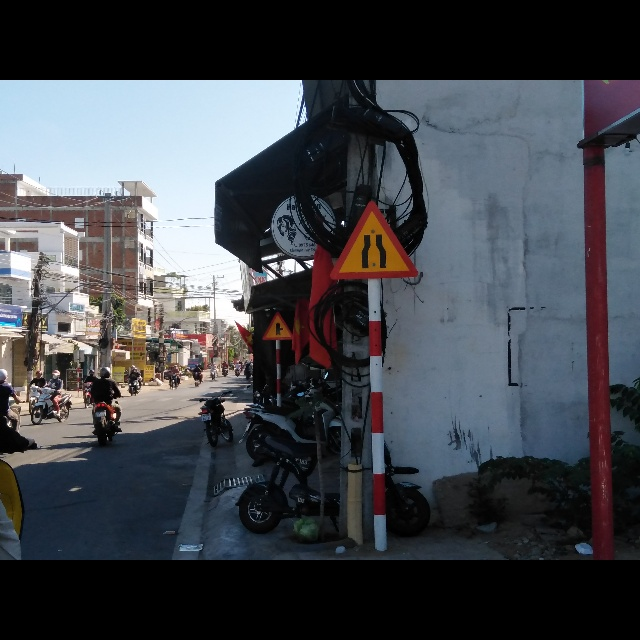Giao nhau với đường không ưu tiên: (260, 313, 293, 341)
Đường bị hẹp cả hai bên: (331, 198, 420, 281)
